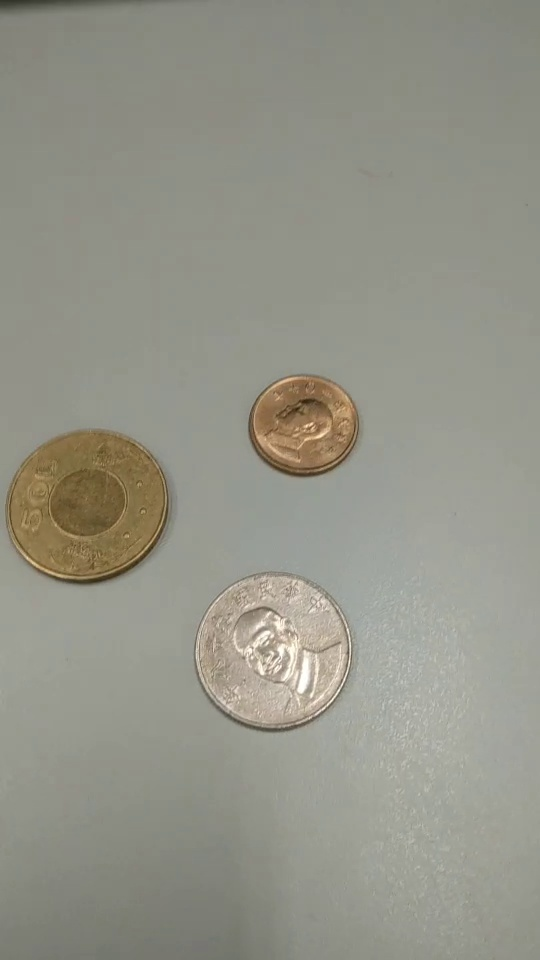NT$ 1: (248, 371, 359, 476)
NT$ 10: (192, 573, 353, 733)
NT$ 50: (4, 428, 172, 586)
